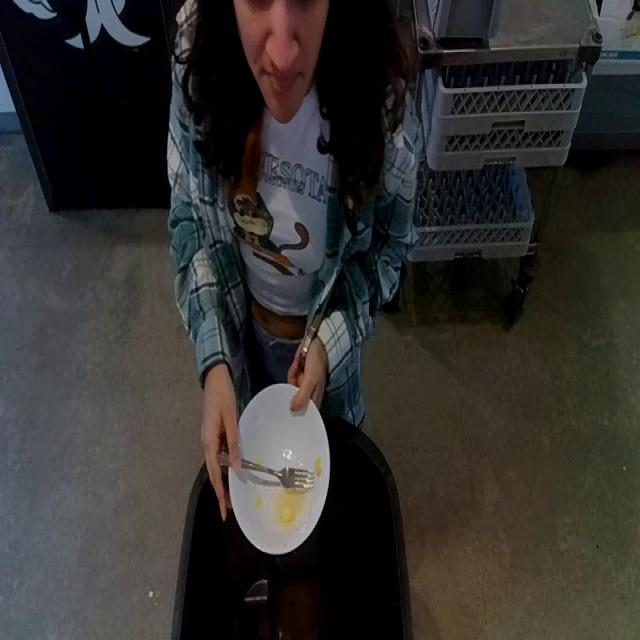Anorganik: (231, 386, 331, 552), (227, 455, 318, 494)
Organik: (256, 470, 314, 526)
